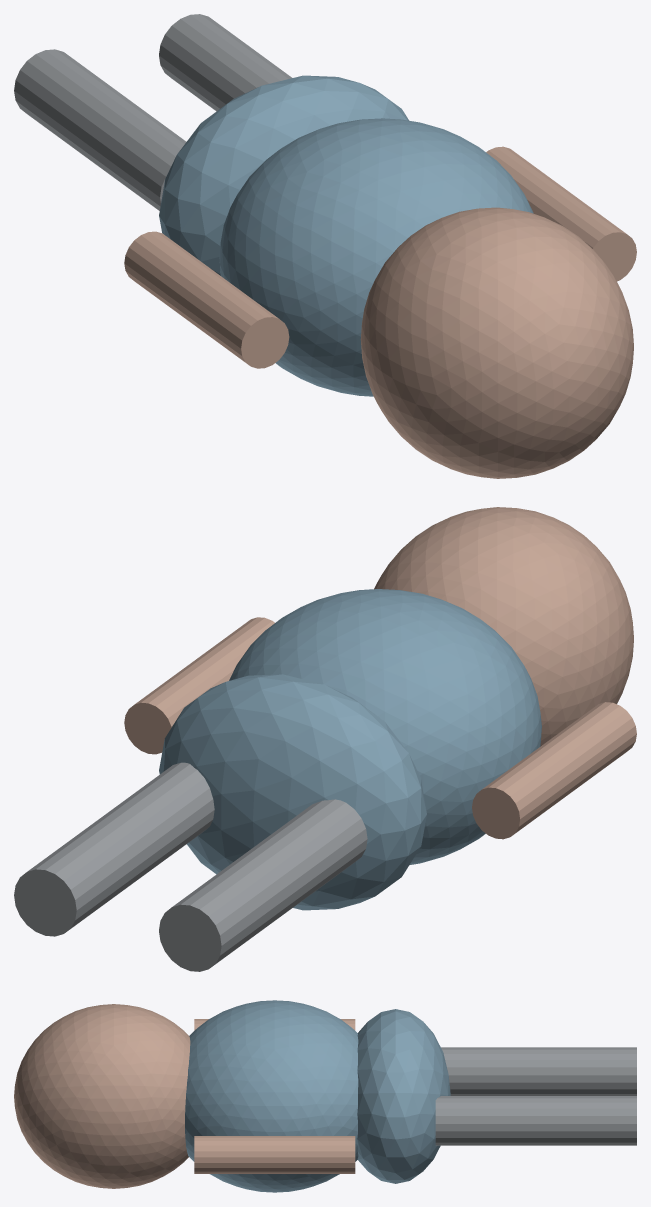
File: newborn-high.glb
The picture shows the model from 3 angles, top to bottom: view 1: azimuth 30°, elevation 25°; view 2: azimuth 150°, elevation 25°; view 3: azimuth 270°, elevation 25°; orthographic projection. The views are drawn at different scales.
Visible parts, largest first — view 1: head, torso, pelvis, left_leg, left_arm, right_leg, right_arm; view 2: torso, pelvis, head, left_leg, right_leg, left_arm, right_arm; view 3: head, torso, pelvis, right_leg, left_leg, right_arm.
Part boxes in pixels (x1,y1,x2,y2): head: [360, 207, 633, 478]; torso: [219, 118, 533, 396]; pelvis: [159, 75, 408, 275]; left_leg: [14, 49, 186, 210]; left_arm: [124, 231, 289, 368]; right_leg: [159, 14, 291, 111]; right_arm: [486, 146, 636, 281]; torso: [229, 589, 541, 864]; pelvis: [159, 674, 426, 910]; head: [374, 507, 633, 746]; left_leg: [159, 799, 367, 971]; right_leg: [14, 762, 214, 936]; left_arm: [472, 702, 636, 839]; right_arm: [124, 617, 274, 754]; head: [14, 1004, 190, 1188]; torso: [185, 1000, 358, 1192]; pelvis: [357, 1009, 450, 1183]; right_leg: [435, 1096, 636, 1145]; left_leg: [441, 1047, 636, 1095]; right_arm: [194, 1136, 355, 1173].
Bounding box in the file's own units: 0.6888 × 0.4048 × 1.36.
